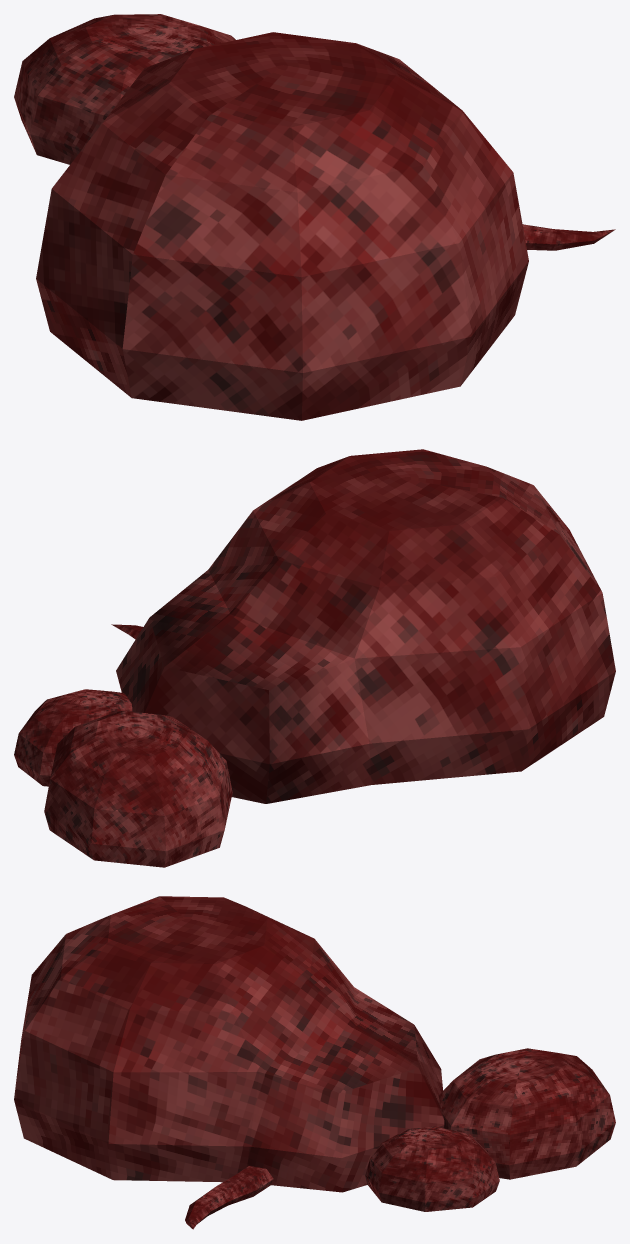
The model's file is pustule_grp_3.fbx.
The picture shows the model from 3 angles, top to bottom: view 1: azimuth 30°, elevation 25°; view 2: azimuth 150°, elevation 25°; view 3: azimuth 270°, elevation 25°; orthographic projection. The views are drawn at different scales.
Visible parts, largest first — view 1: big_bubble, bubble_8, root_4; view 2: big_bubble, bubble_8, bubble_5; view 3: big_bubble, bubble_8, bubble_5, root_4.
Boxes of the visible parts, x1,y1,x2,y2 form: big_bubble: [36, 32, 528, 420]; bubble_8: [14, 14, 235, 164]; root_4: [522, 224, 615, 250]; big_bubble: [116, 449, 615, 803]; bubble_8: [44, 711, 232, 867]; bubble_5: [14, 689, 132, 786]; big_bubble: [14, 896, 444, 1192]; bubble_8: [438, 1048, 615, 1179]; bubble_5: [365, 1126, 499, 1211]; root_4: [185, 1166, 273, 1229].
Bounding box in the file's own units: 20.38 × 9.32 × 26.31.
